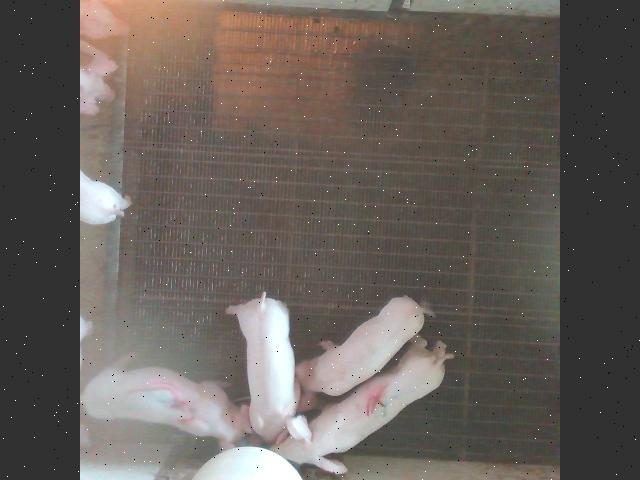pig-3: (81, 352, 254, 450)
pig-4: (272, 338, 451, 472)
